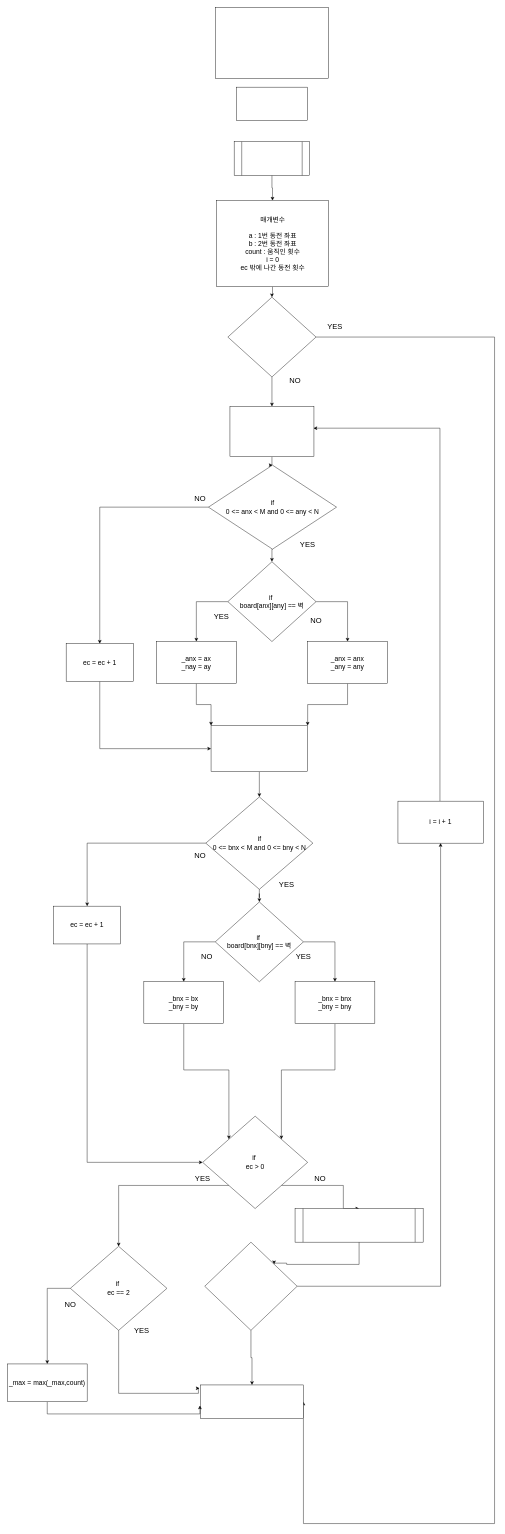
Some shapes in this 505 by 1534 pixel diagram are drawn without their labels. The shapes that lost their labels are listed below. From the top down, each one's centre as x and y in pixels, then its label:
(272,43): 변수 N 세로 M 가로 board 2차원 배열 dx = [0,1,0,-1] dy = [1,0,-1,0]] _max = -1
(272,104): 두개의 동전 위치 a,b
(272,158): dfs(a,b,0)
(271,337): if count > 10
(272,431): anx = dx[i] + ax any = dy[i] + ay bnx = dx[i] + bx bny = dy[i] + by
(359,1225): dfs(_a,_b,count + 1,.(i + 2) % 3)
(250,1286): if i < 3
(251,1402): return
